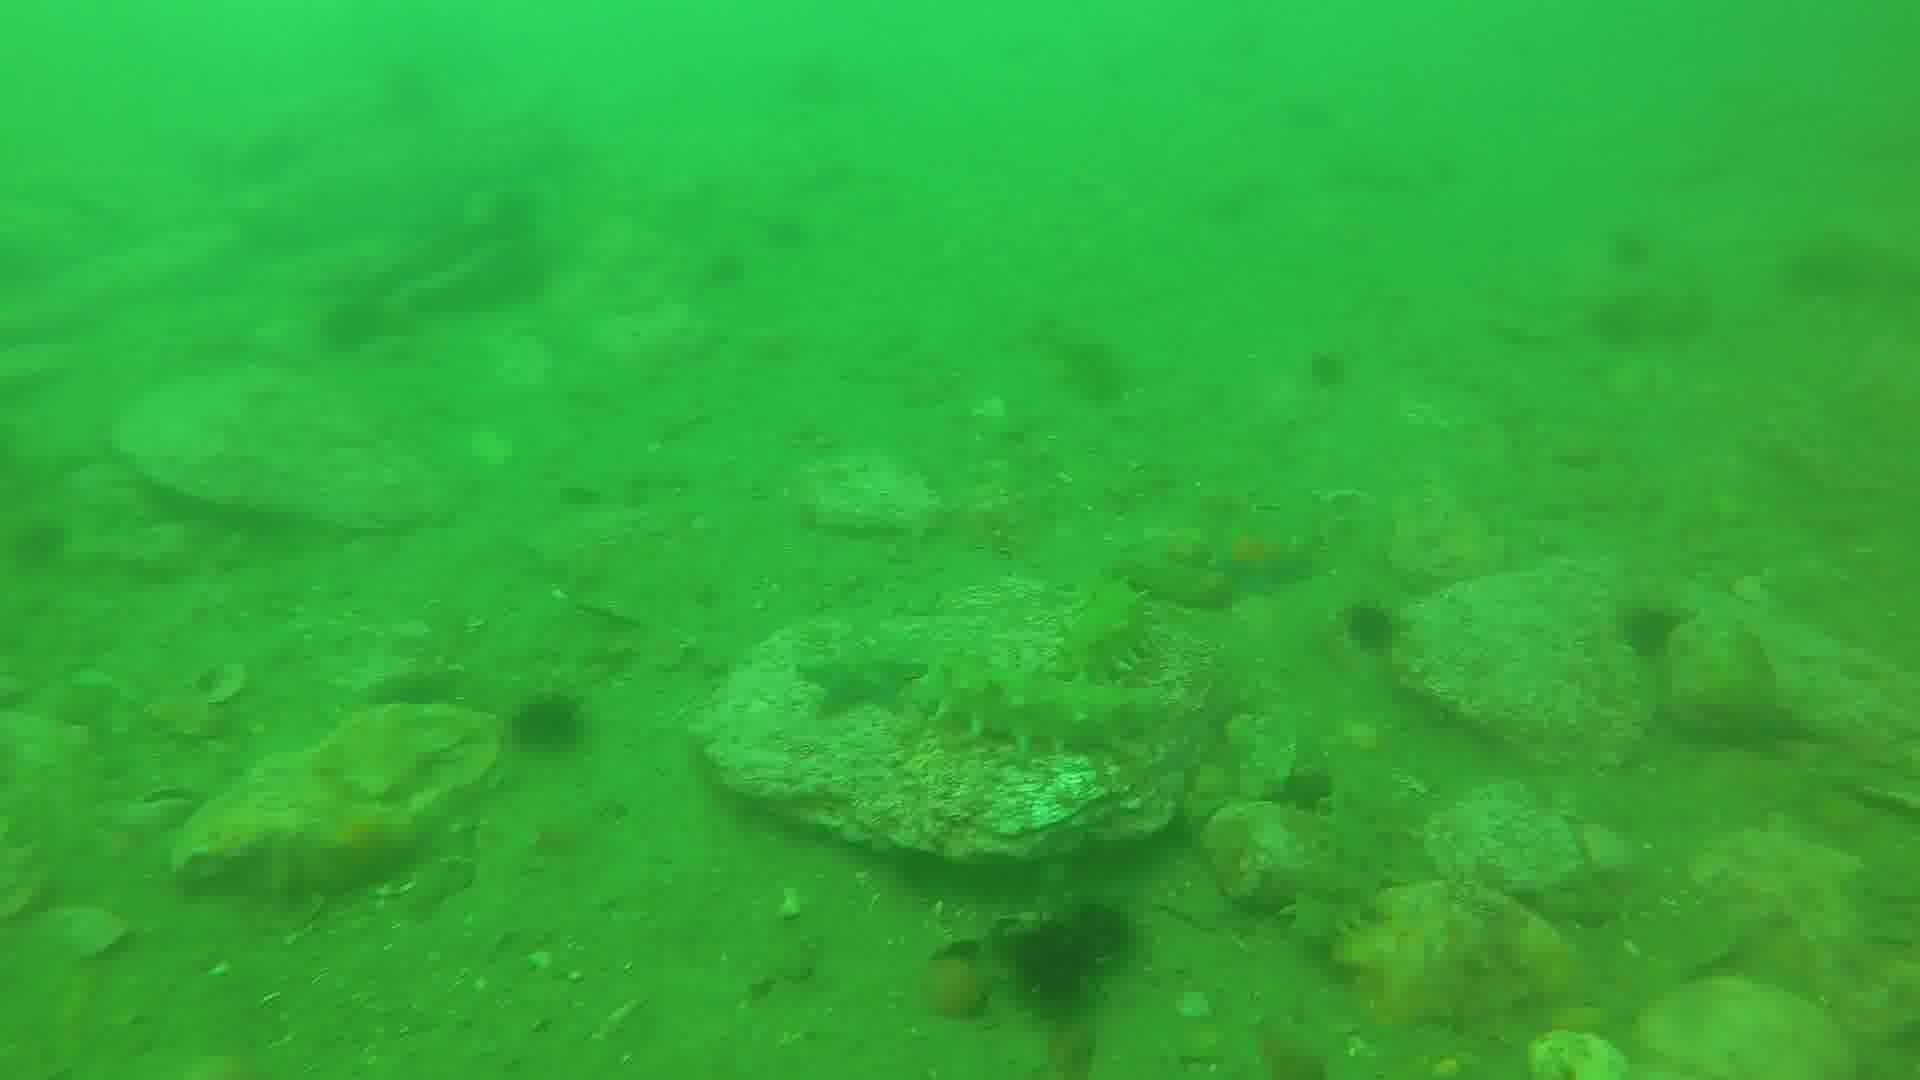echinus: (1010, 923, 1089, 1015), (1064, 902, 1153, 975), (520, 688, 585, 742), (1338, 604, 1400, 658)
holothurian: (931, 658, 1178, 754), (1294, 769, 1404, 956), (1060, 578, 1154, 688)
starfish: (800, 636, 934, 715), (1207, 525, 1317, 597)
